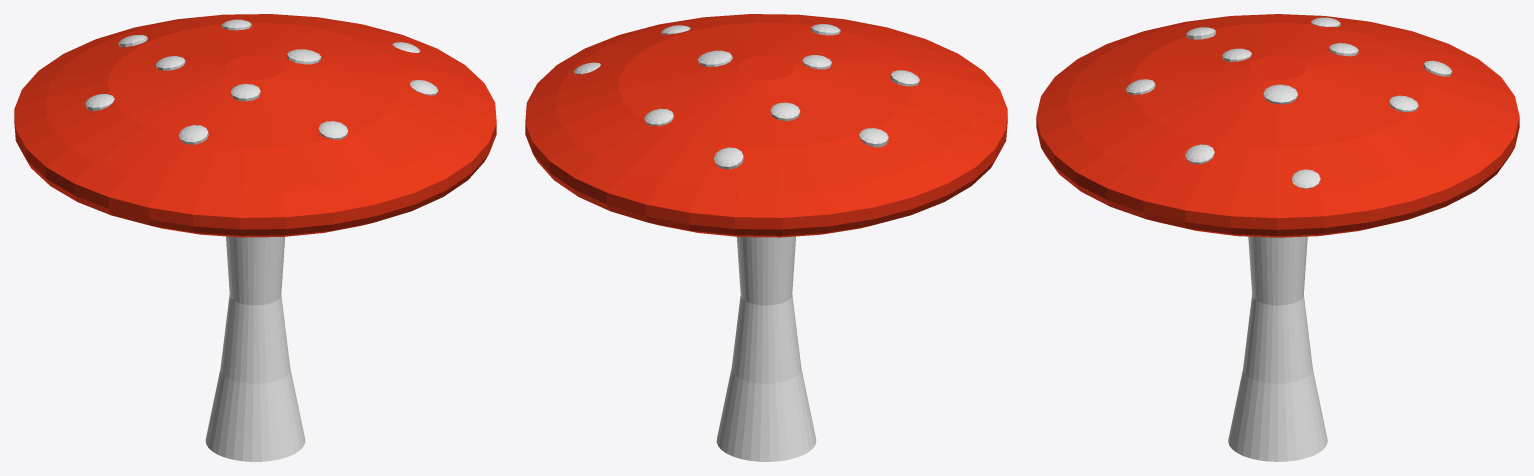
File: mushroom1.fbx
3 views of the same model, side by side, from view 1: azimuth 30°, elevation 25°; view 2: azimuth 150°, elevation 25°; view 3: azimuth 270°, elevation 25° (orthographic).
Visible parts, largest first — view 1: Mushroom; view 2: Mushroom; view 3: Mushroom.
Boxes of the visible parts, x1=… form: Mushroom: x1=14, y1=14, x2=496, y2=461; Mushroom: x1=525, y1=14, x2=1007, y2=461; Mushroom: x1=1036, y1=14, x2=1519, y2=461.
Bounding box in the file's own units: 19.55 × 16.76 × 19.55.
